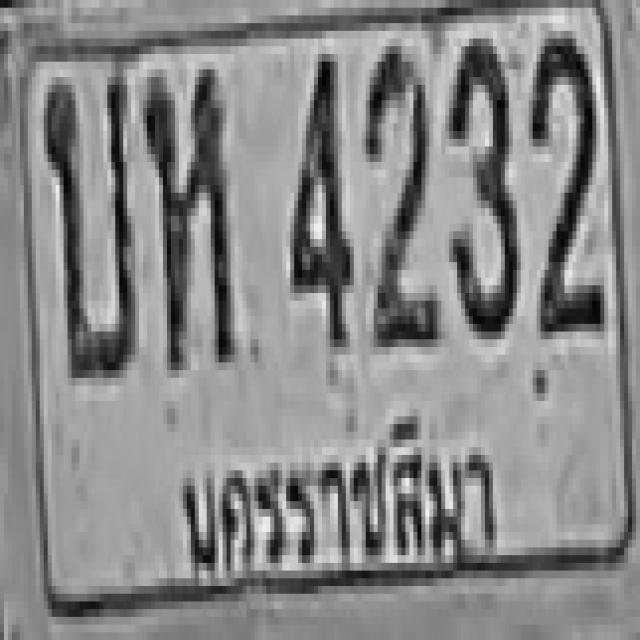2: (531, 31, 602, 331), (362, 43, 433, 343), (366, 43, 437, 343)
3: (445, 35, 517, 335)
35BorBaiMai: (40, 69, 135, 378)
4: (288, 46, 352, 347)
50HorHeep: (143, 62, 235, 370)
NakhonRatchasima: (168, 399, 513, 594)
